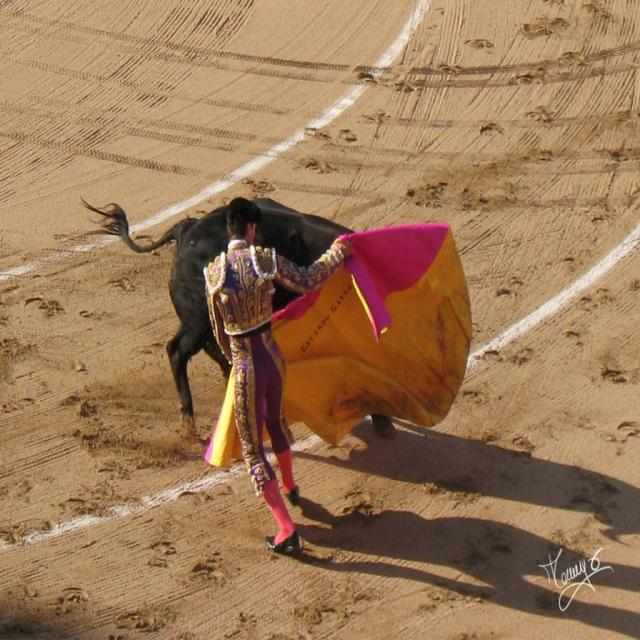Bull: (80, 195, 402, 440)
